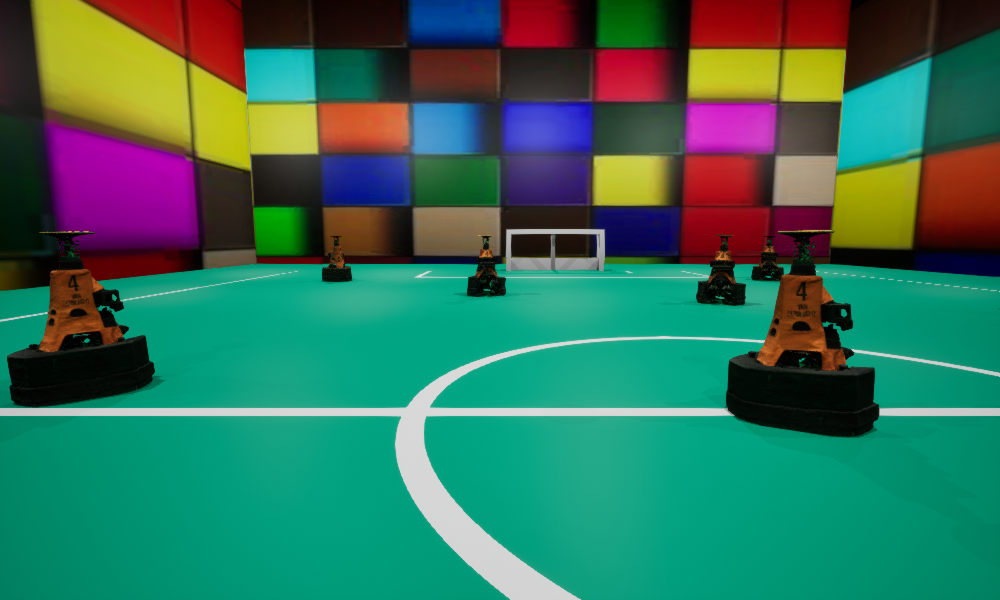o: (726, 230, 878, 436), (7, 231, 154, 406), (696, 235, 745, 304), (467, 235, 505, 296), (751, 236, 783, 280), (322, 236, 351, 281)
